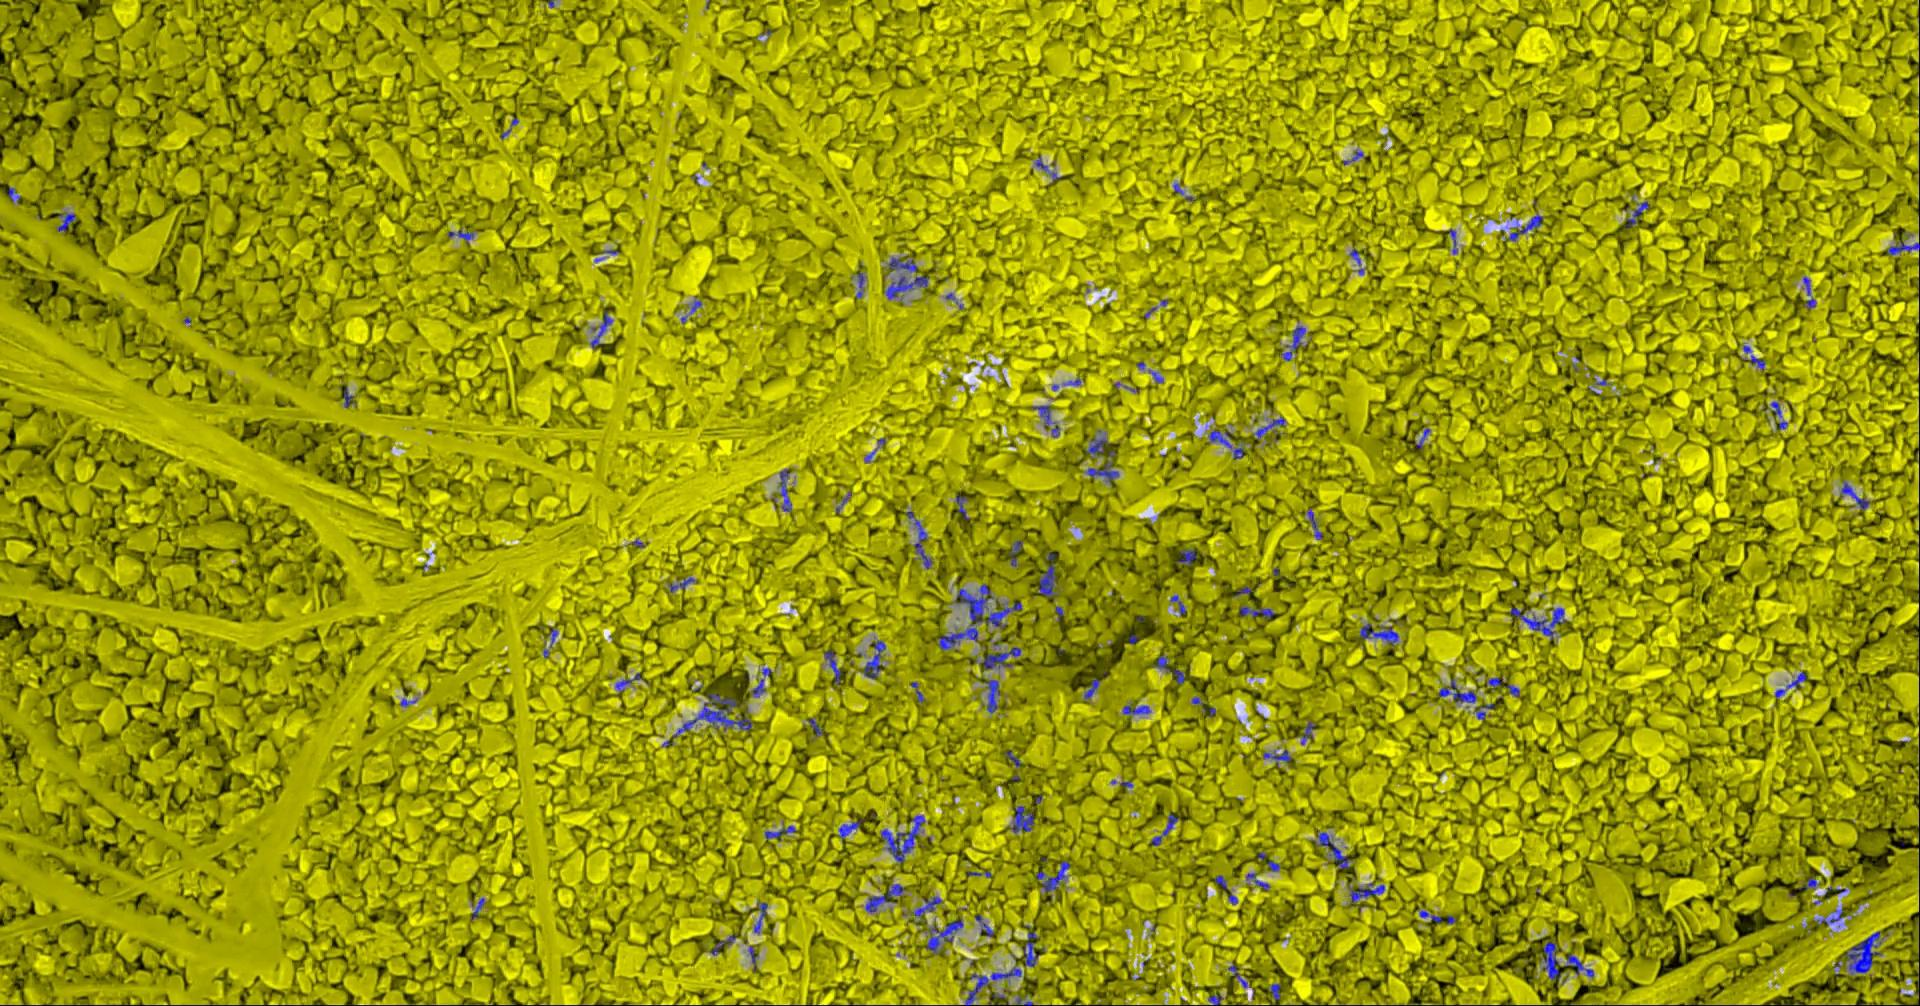ant: (674, 692, 753, 737), (966, 967, 1023, 1005), (883, 815, 926, 862), (1511, 606, 1570, 640), (1843, 931, 1883, 972), (1314, 831, 1352, 868), (927, 920, 965, 951), (867, 883, 905, 912), (1037, 860, 1072, 890), (888, 276, 930, 298), (1509, 213, 1544, 240), (1359, 622, 1399, 645), (982, 647, 1022, 669), (863, 640, 888, 678), (1440, 678, 1478, 702), (1154, 655, 1186, 683), (916, 520, 933, 568), (1777, 671, 1808, 697), (912, 895, 943, 922), (592, 311, 615, 348), (1841, 481, 1870, 509), (1023, 925, 1043, 967), (1283, 326, 1307, 359), (1040, 553, 1058, 597), (1544, 941, 1563, 981), (1351, 882, 1385, 903), (1257, 417, 1288, 439), (1088, 461, 1120, 483), (1625, 201, 1650, 227), (1567, 953, 1595, 976), (1087, 436, 1117, 456), (825, 649, 843, 683), (1012, 805, 1035, 832), (711, 934, 737, 955), (984, 680, 1001, 713), (766, 823, 797, 840), (1032, 405, 1057, 427), (1263, 749, 1293, 767), (617, 672, 643, 692), (781, 467, 792, 511), (1229, 963, 1250, 987), (1309, 507, 1324, 539), (841, 818, 863, 838), (756, 902, 770, 934), (1818, 907, 1845, 923), (1241, 606, 1275, 619), (977, 915, 996, 936), (1248, 873, 1271, 890), (1888, 241, 1920, 254), (1804, 276, 1817, 307), (890, 257, 918, 271), (670, 577, 696, 592), (1211, 431, 1233, 448), (1351, 248, 1365, 274), (957, 493, 971, 520), (1010, 540, 1023, 567), (450, 229, 475, 243), (58, 213, 77, 231), (1171, 594, 1189, 614), (1478, 702, 1497, 720), (1084, 678, 1101, 699), (1164, 813, 1180, 835), (1302, 721, 1316, 744), (1178, 549, 1197, 565), (1421, 909, 1443, 923), (472, 897, 485, 920), (752, 678, 767, 696), (810, 716, 824, 735), (1801, 876, 1821, 889), (1124, 705, 1150, 714), (750, 945, 759, 972), (1752, 354, 1768, 370), (1269, 983, 1283, 1000), (857, 272, 866, 297), (9, 187, 22, 201), (1209, 993, 1223, 1005), (1490, 677, 1503, 687), (1236, 447, 1246, 459)
